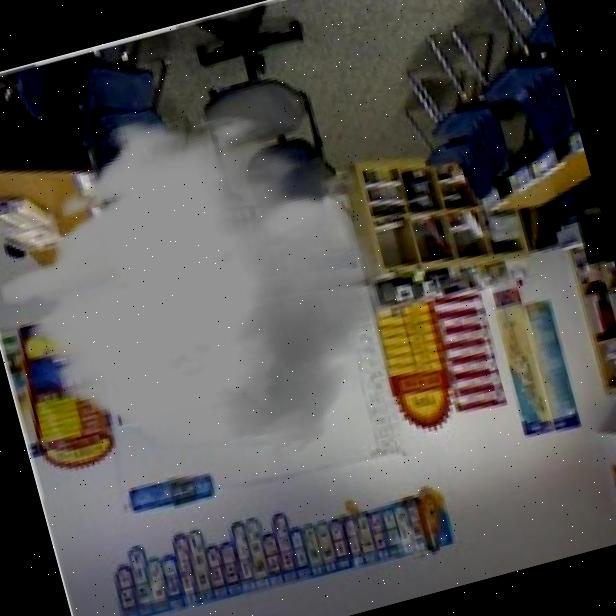smoke: (0, 68, 423, 518)
